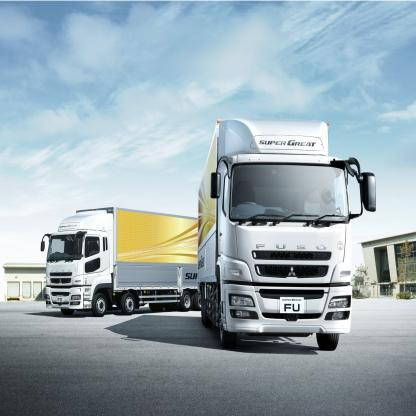truck: (200, 116, 376, 345), (41, 207, 201, 317)
